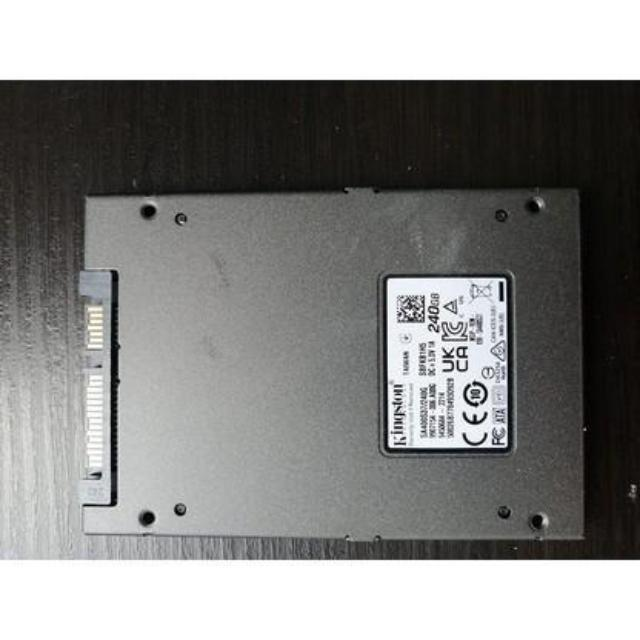DISK: (80, 191, 588, 538)
